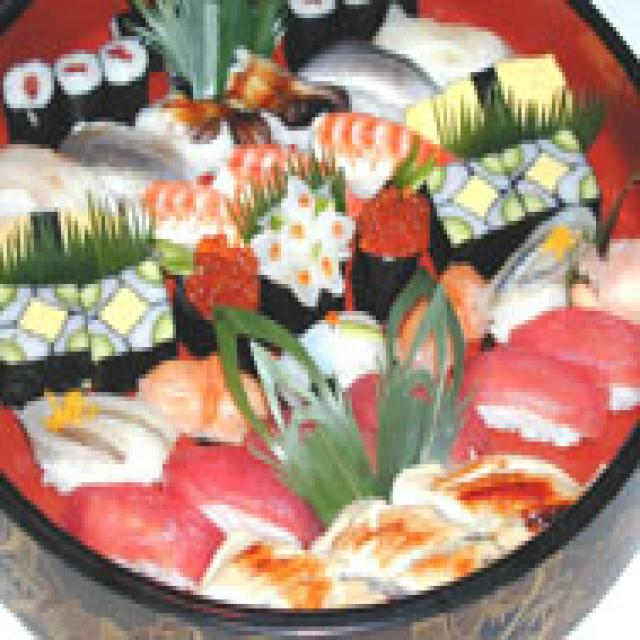寿司卷物: (0, 22, 630, 554)
